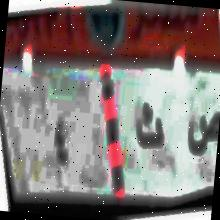4: (49, 112, 73, 170)
saad: (185, 104, 220, 157)
thaa: (133, 96, 168, 154)
